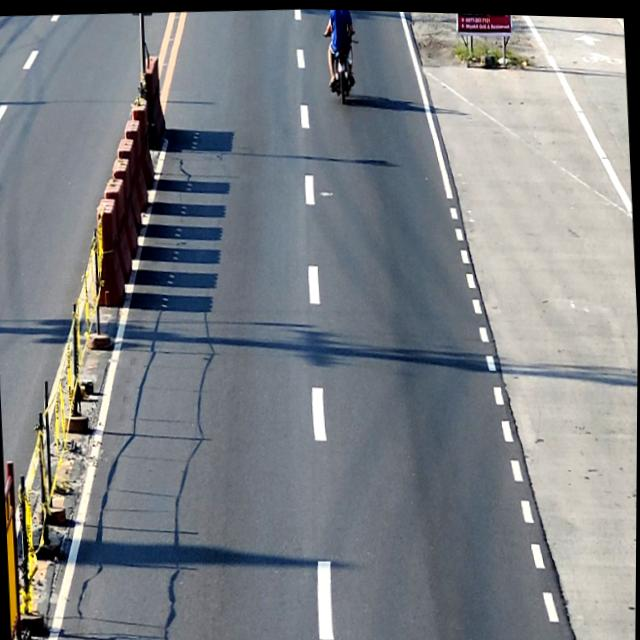Motorcycle: (326, 18, 357, 105)
